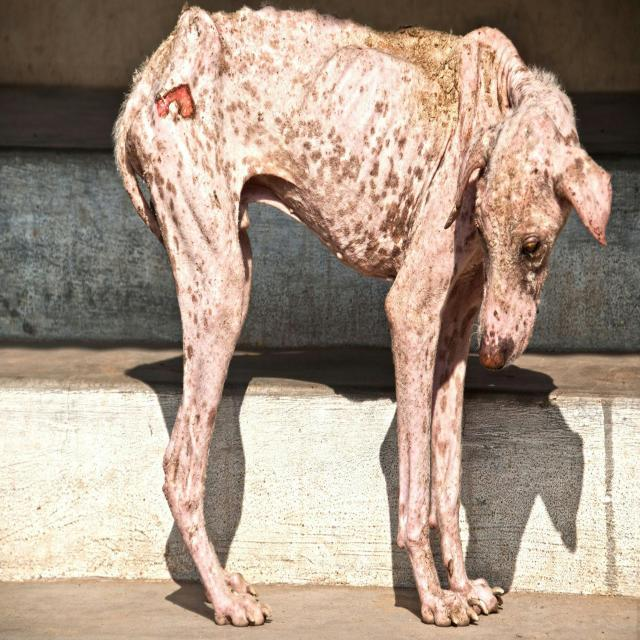mange: (298, 31, 428, 225), (192, 31, 307, 160), (170, 138, 234, 265), (558, 146, 610, 227), (186, 271, 230, 364), (476, 41, 528, 118), (521, 120, 578, 186), (402, 274, 438, 369), (414, 211, 456, 286), (168, 452, 205, 526), (406, 364, 429, 482), (484, 136, 528, 188), (434, 126, 464, 194), (518, 82, 566, 124), (436, 367, 459, 452), (190, 366, 210, 459), (429, 59, 462, 113), (433, 451, 458, 515)
